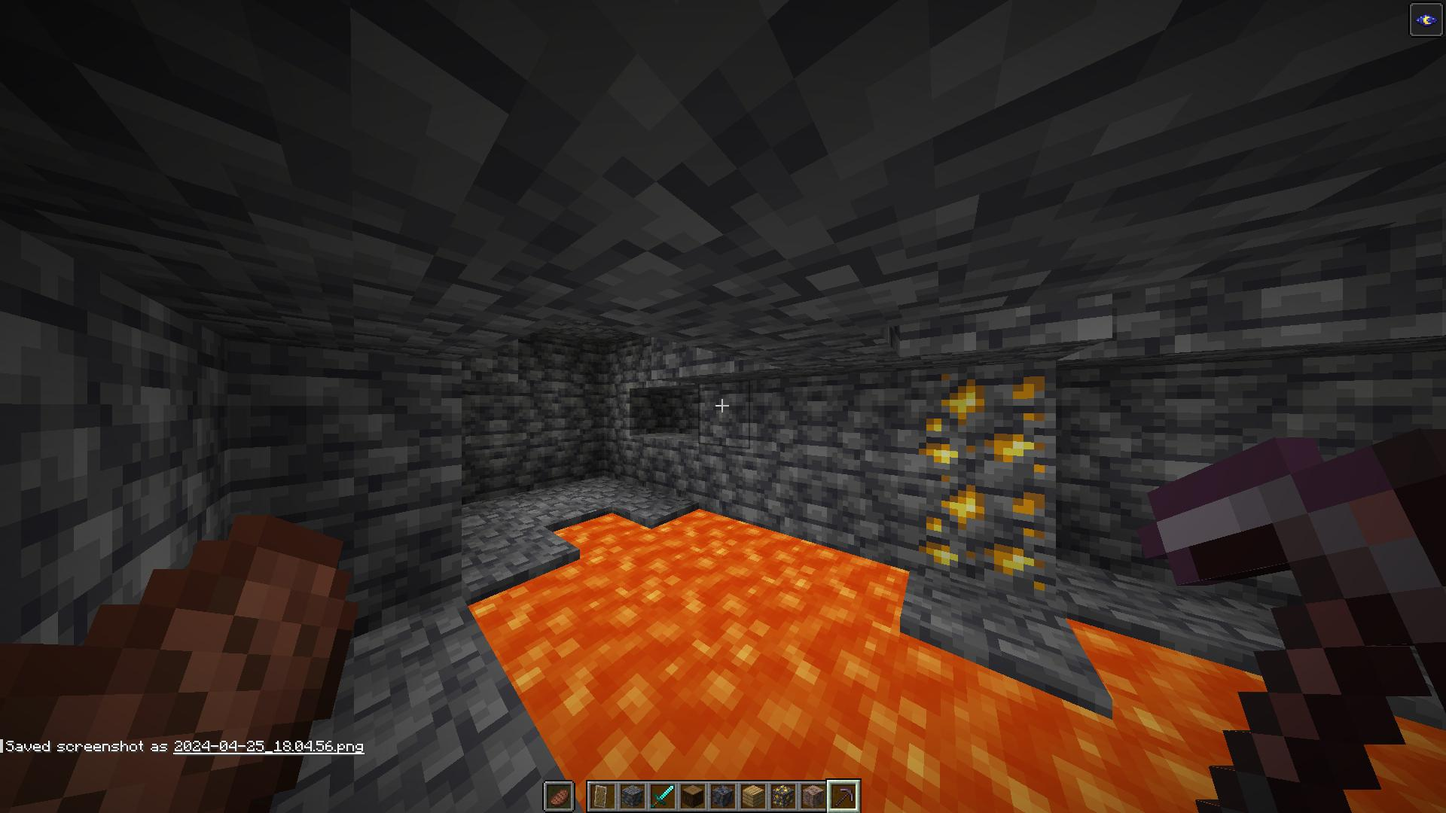gold ore: (924, 373, 1060, 491), (926, 494, 1053, 587)
